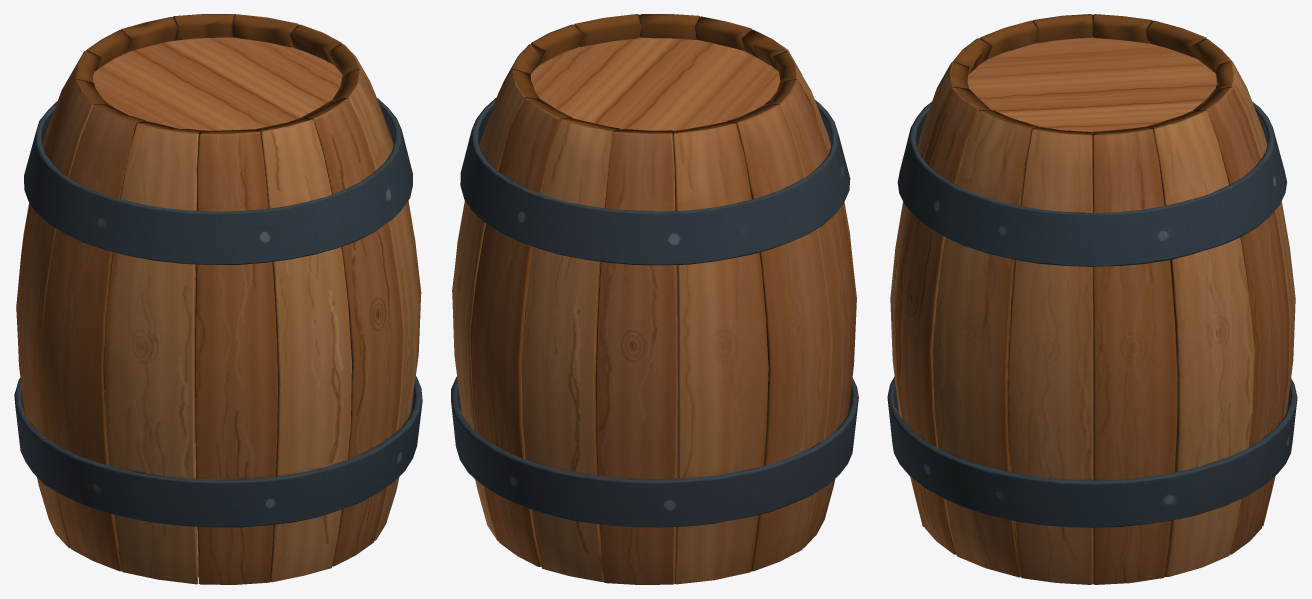
The model's file is Meshy_AI_Rustic_Wooden_Barrel_20261128_texture.fbx.
3 views of the same model, side by side, from view 1: azimuth 30°, elevation 25°; view 2: azimuth 150°, elevation 25°; view 3: azimuth 270°, elevation 25° (orthographic).
Parts seen in each view (by area): view 1: Mesh_0; view 2: Mesh_0; view 3: Mesh_0.
Part boxes in pixels (x1,y1,x2,y2): Mesh_0: (14, 14, 422, 584); Mesh_0: (451, 14, 858, 584); Mesh_0: (887, 14, 1297, 584).
Size of the model in its own units: 84.82 by 100 by 84.93.
Materials: 1 (1 with a texture image).
